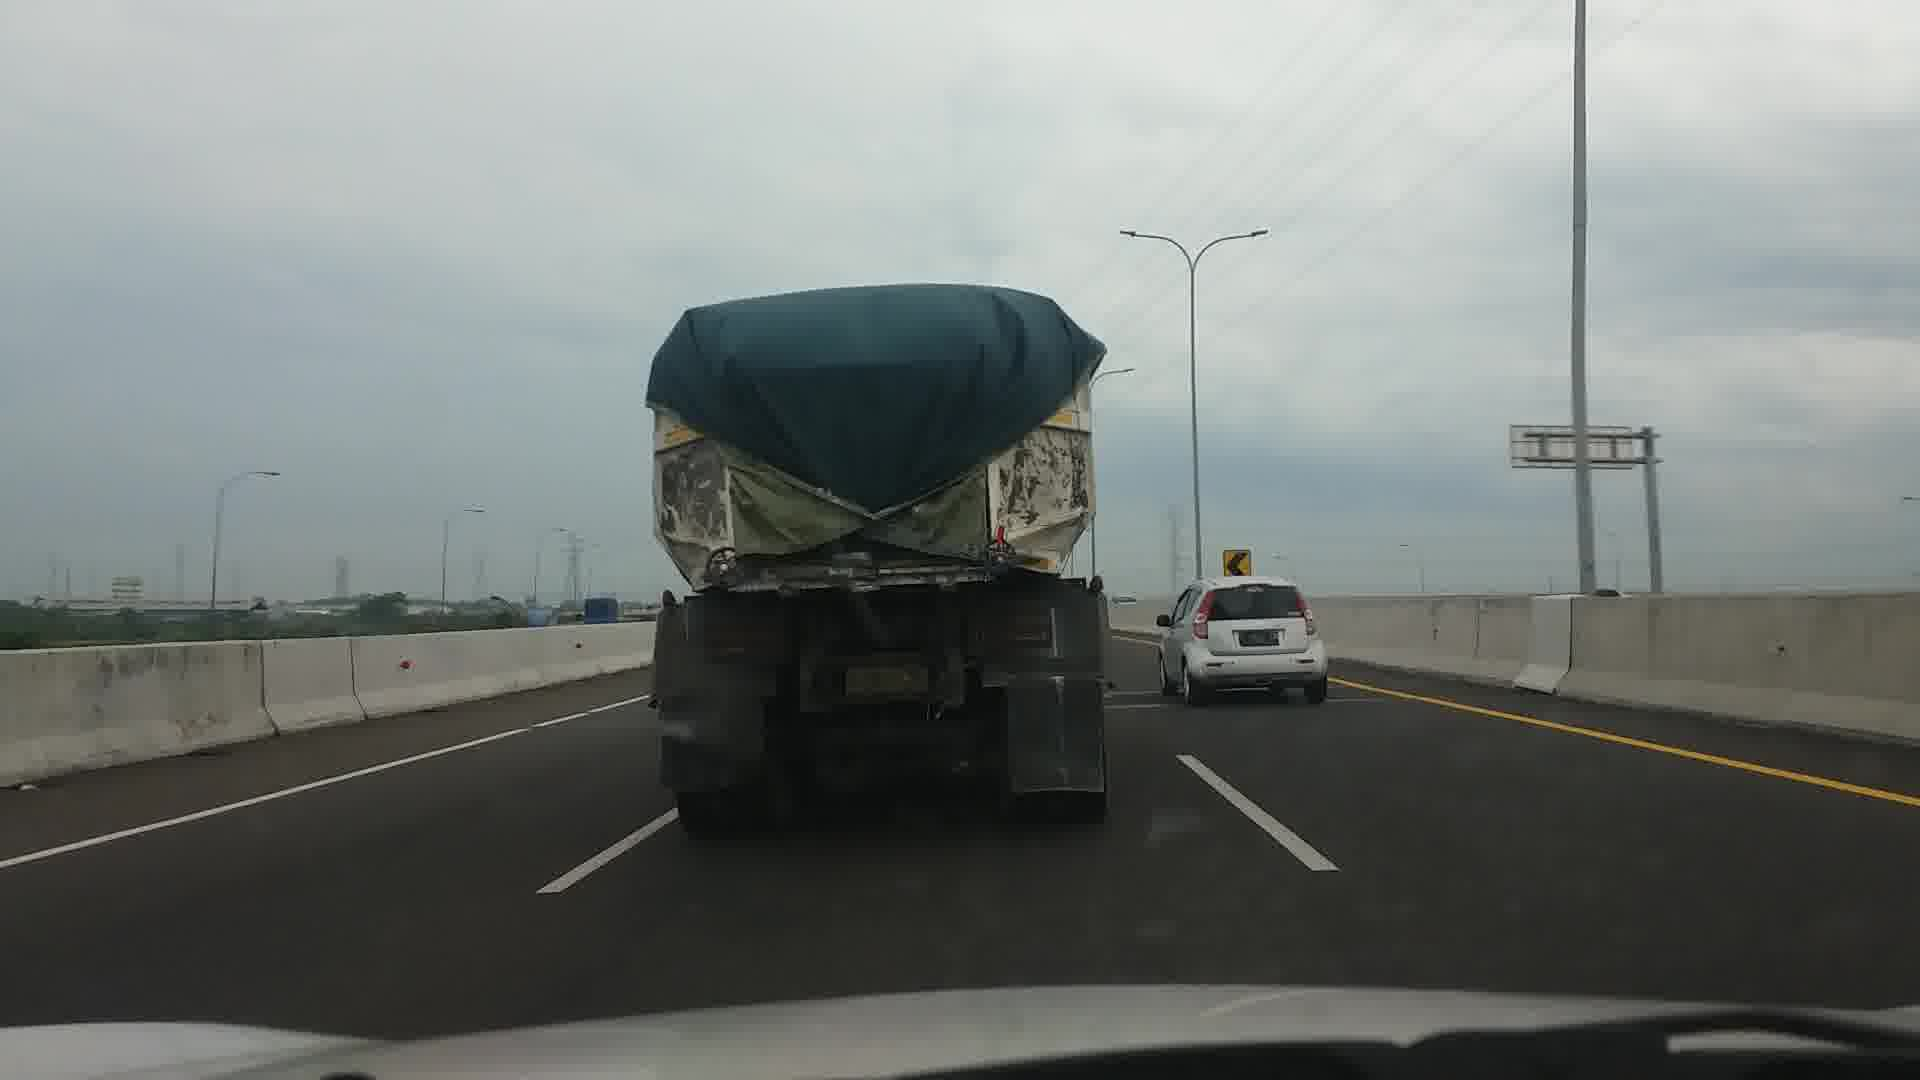plate_positive: (843, 666, 928, 694), (1240, 632, 1279, 646)
